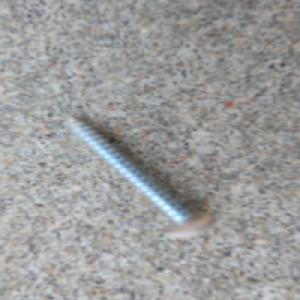Screw: (62, 112, 217, 240)
